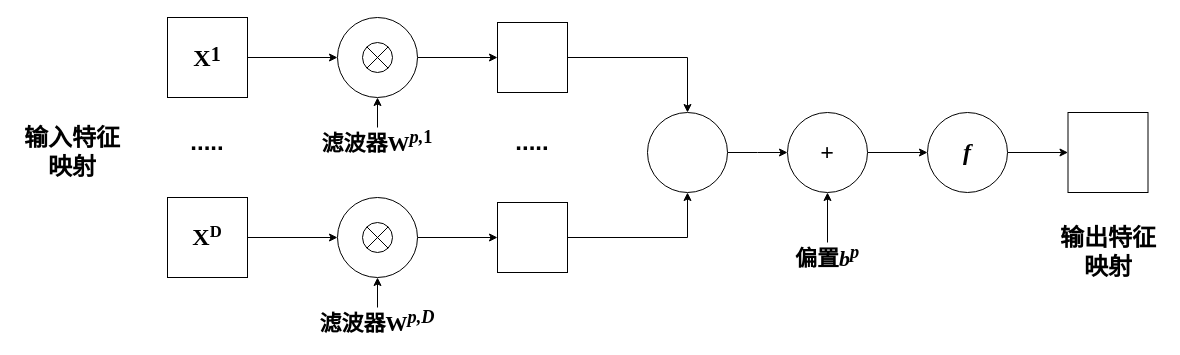
This 1180x355 diagram has some shape labels left out. Each missing label, with the box of its shape:
Y p: (1067, 112, 1148, 192)
求和: (646, 112, 728, 192)
